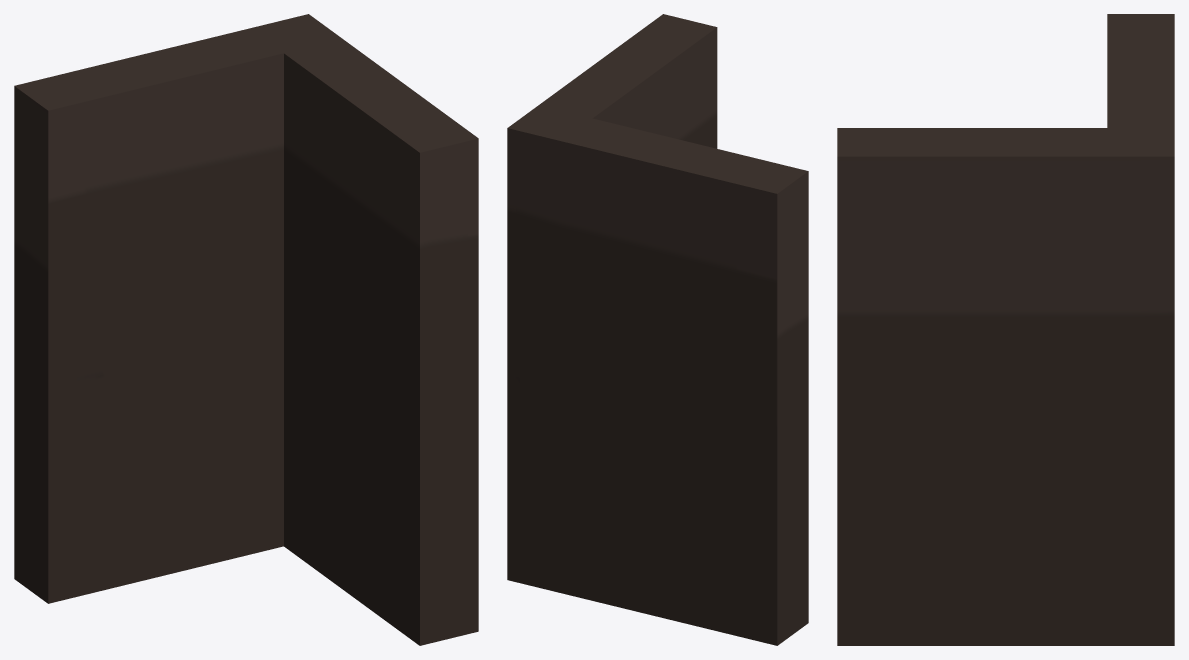
Rendered from shortcorner.fbx.
3 views of the same model, side by side, from view 1: azimuth 30°, elevation 25°; view 2: azimuth 150°, elevation 25°; view 3: azimuth 270°, elevation 25° (orthographic). The views are drawn at different scales.
Visible parts, largest first — view 1: Cube; view 2: Cube; view 3: Cube.
Boxes of the visible parts, x1,y1,x2,y2 form: Cube: [14, 14, 478, 645]; Cube: [507, 14, 808, 645]; Cube: [837, 14, 1174, 645].
Size of the model in its own units: 100 by 160 by 100.
